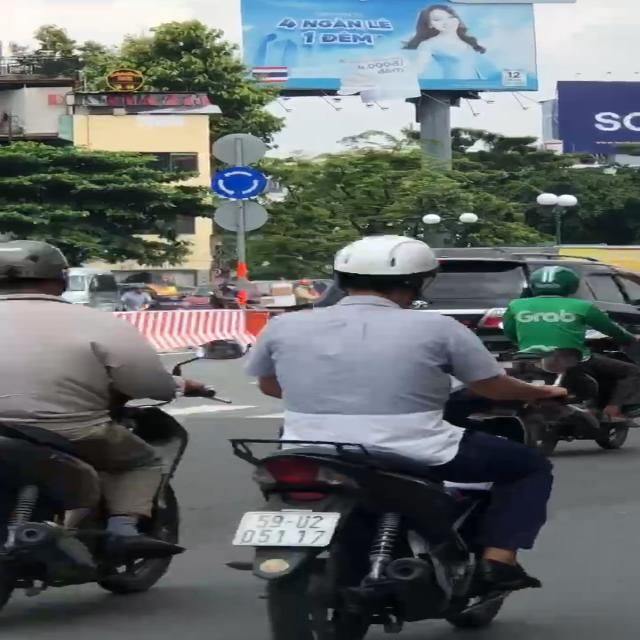Bien bao noi giao nhau chay theo vong xuyen: (208, 166, 270, 199)
